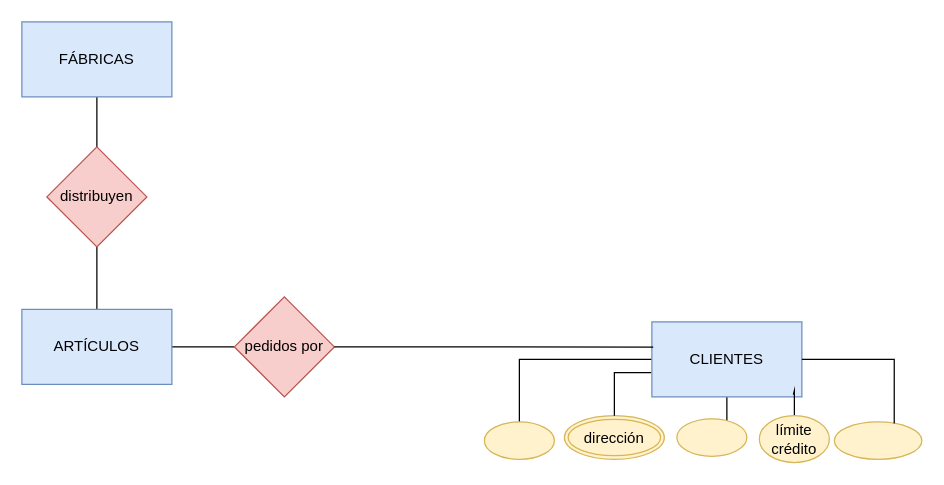
The diagram is 944 pixels wide and 485 high, and some of its shapes have lost their labels. Each missing label, with the box of its shape:
descuento: (833, 421, 922, 459)
nº: (483, 421, 554, 459)
saldo: (676, 418, 747, 456)
